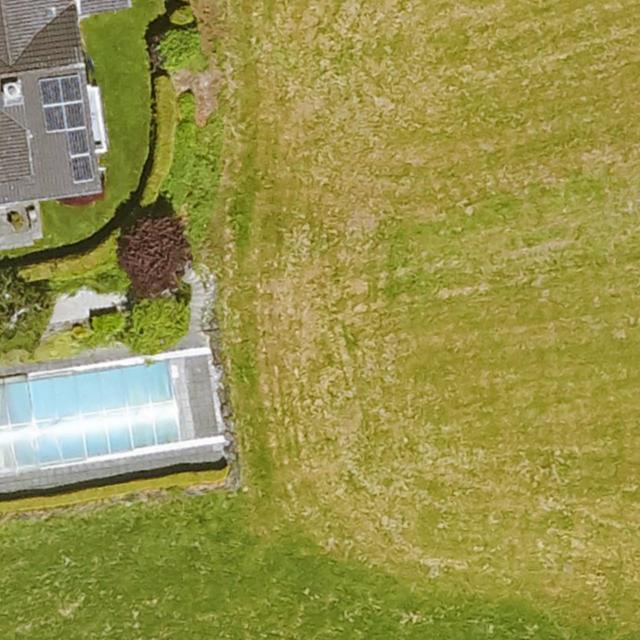tree: (119, 217, 190, 294), (0, 275, 52, 349)
